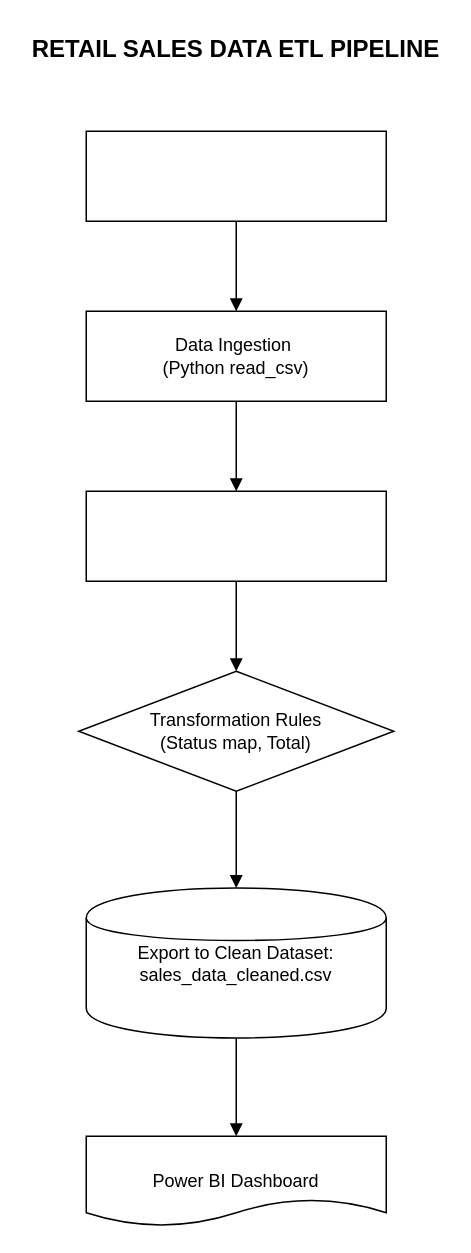
Image size: 471x1253. Some labels were removed from this diagram. The box of each missing label's shape, as (x1, y1, x2, y2) in pixels:
Data Cleansing (Date fix, round price): (85, 490, 386, 581)
Source Data: sales_data_mock.csv: (85, 130, 386, 221)
